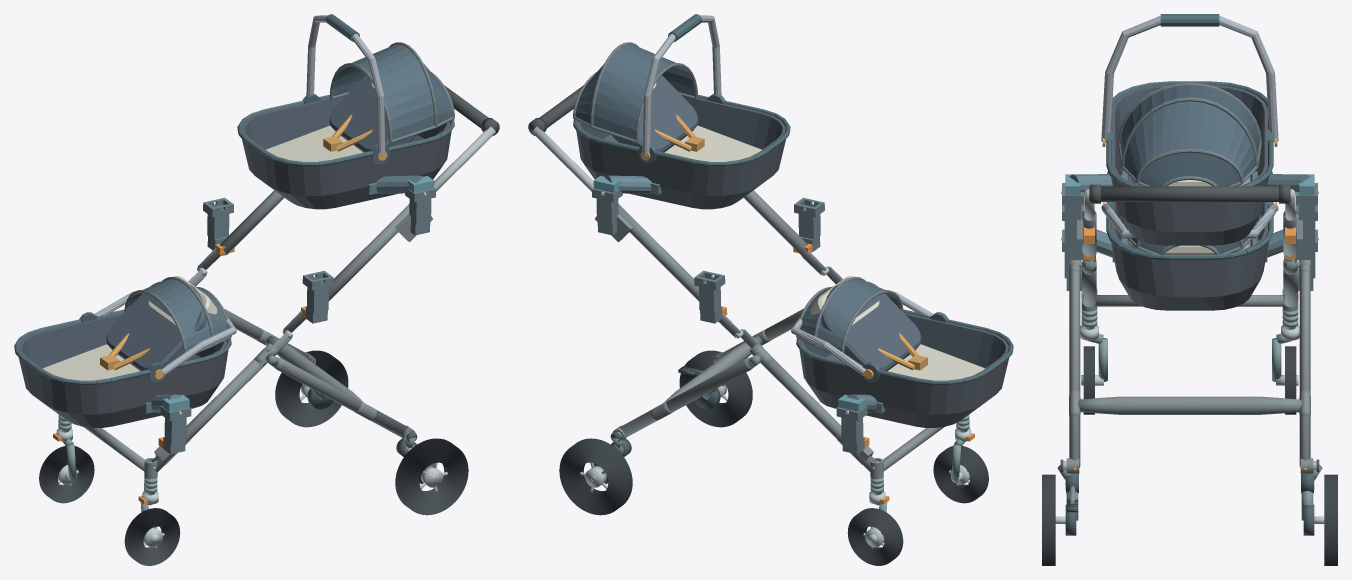
The model's file is D04_w550_state1_wheel_S.glb.
The picture shows the model from 3 angles, left to right: view 1: azimuth 30°, elevation 25°; view 2: azimuth 150°, elevation 25°; view 3: azimuth 270°, elevation 25°; orthographic projection. The views are drawn at different scales.
Parts seen in each view (by area): view 1: D04_Upper, D04_Lower, RL_tire.002, RR_tire.002, FL_tire.002, FR_tire.002, V46_rear_leg_-1.003, main_lower_-1.003, main_upper_-1.003, Universal_Cabin_Receiver_M_-1, Universal_Cabin_Receiver_M_1, Universal_Cabin_Receiver_L_-1 (+8 smaller); view 2: D04_Upper, D04_Lower, RR_tire.002, RL_tire.002, FR_tire.002, FL_tire.002, V46_rear_leg_1.003, main_lower_1.003, main_upper_1.003, Universal_Cabin_Receiver_M_1, Universal_Cabin_Receiver_M_-1, Universal_Cabin_Receiver_L_1 (+8 smaller); view 3: D04_Upper, D04_Lower, V46_rearbar.003, round_handle.002, V46_rear_leg_1.003, V46_rear_leg_-1.003, D04_Upper_Mount_H, RL_tire.002, RR_tire.002, front_fixed_round_tube.002, Universal_Cabin_Receiver_H_1, Universal_Cabin_Receiver_H_-1 (+11 smaller).
Boxes of the visible parts, left/top/right/bottom form: D04_Upper: left=237, top=14, right=454, bottom=209; D04_Lower: left=14, top=276, right=236, bottom=427; RL_tire.002: left=395, top=438, right=468, bottom=515; RR_tire.002: left=275, top=350, right=348, bottom=427; FL_tire.002: left=124, top=508, right=180, bottom=565; FR_tire.002: left=39, top=446, right=94, bottom=503; V46_rear_leg_-1.003: left=275, top=358, right=408, bottom=437; main_lower_-1.003: left=151, top=359, right=266, bottom=472; main_upper_-1.003: left=306, top=204, right=409, bottom=306; Universal_Cabin_Receiver_M_-1: left=302, top=270, right=333, bottom=323; Universal_Cabin_Receiver_M_1: left=203, top=197, right=233, bottom=250; Universal_Cabin_Receiver_L_-1: left=160, top=405, right=191, bottom=454; D04_Upper: left=573, top=14, right=790, bottom=209; D04_Lower: left=791, top=276, right=1013, bottom=427; RR_tire.002: left=559, top=438, right=632, bottom=515; RL_tire.002: left=679, top=350, right=752, bottom=427; FR_tire.002: left=847, top=508, right=903, bottom=565; FL_tire.002: left=933, top=446, right=988, bottom=503; V46_rear_leg_1.003: left=619, top=358, right=752, bottom=437; main_lower_1.003: left=761, top=359, right=876, bottom=472; main_upper_1.003: left=618, top=204, right=721, bottom=306; Universal_Cabin_Receiver_M_1: left=694, top=270, right=725, bottom=323; Universal_Cabin_Receiver_M_-1: left=794, top=197, right=824, bottom=251; Universal_Cabin_Receiver_L_1: left=836, top=405, right=867, bottom=454; D04_Upper: left=1101, top=14, right=1278, bottom=245; D04_Lower: left=1101, top=171, right=1278, bottom=310; V46_rearbar.003: left=1078, top=396, right=1301, bottom=414; round_handle.002: left=1089, top=186, right=1290, bottom=201; V46_rear_leg_1.003: left=1299, top=269, right=1310, bottom=467; V46_rear_leg_-1.003: left=1069, top=269, right=1080, bottom=467; D04_Upper_Mount_H: left=1061, top=171, right=1318, bottom=195; RL_tire.002: left=1042, top=474, right=1055, bottom=565; RR_tire.002: left=1324, top=474, right=1337, bottom=565; front_fixed_round_tube.002: left=1095, top=295, right=1284, bottom=306; Universal_Cabin_Receiver_H_1: left=1296, top=183, right=1317, bottom=244; Universal_Cabin_Receiver_H_-1: left=1062, top=183, right=1083, bottom=244.
Bounding box in the file's own units: 1.27 × 1.28 × 0.6471.
